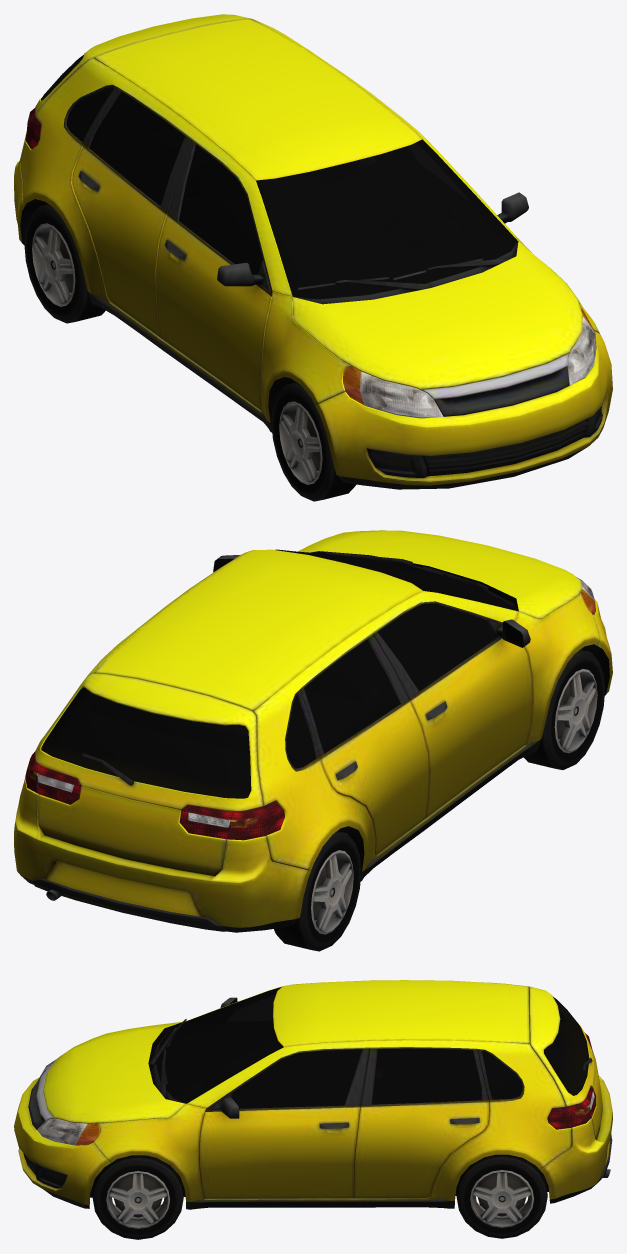
File: hatchback.glb
3 views of the same model, one above another, from view 1: azimuth 30°, elevation 25°; view 2: azimuth 150°, elevation 25°; view 3: azimuth 270°, elevation 25° (orthographic). The views are drawn at different scales.
Parts seen in each view (by area): view 1: Hatchback Body, Wheel_B002, Wheel_B003; view 2: Hatchback Body, Wheel_B003, Wheel_B002; view 3: Hatchback Body, Wheel_B, Wheel_B001.
Part boxes in pixels (x1,y1,x2,y2): Hatchback Body: [14, 14, 612, 489]; Wheel_B002: [271, 382, 356, 501]; Wheel_B003: [24, 204, 105, 323]; Hatchback Body: [14, 530, 612, 932]; Wheel_B003: [274, 831, 361, 951]; Wheel_B002: [524, 649, 604, 769]; Hatchback Body: [14, 980, 612, 1209]; Wheel_B: [92, 1155, 183, 1239]; Wheel_B001: [456, 1154, 547, 1238].
Size of the model in its own units: 1.74 by 1.35 by 3.96.
4 materials, 3 textured.
